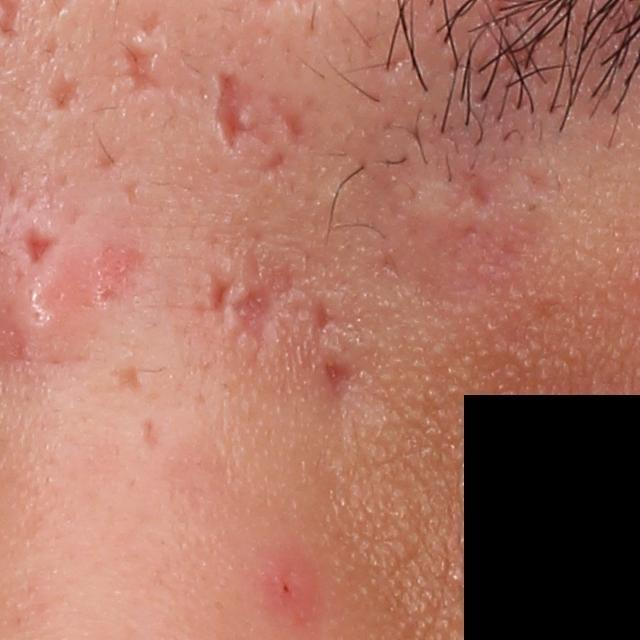atrophic_scar: (234, 253, 297, 353), (212, 68, 257, 166), (43, 70, 93, 120), (121, 42, 164, 96), (514, 163, 565, 204), (106, 355, 146, 395), (26, 226, 58, 262), (135, 413, 162, 455), (322, 363, 351, 402), (141, 6, 165, 36), (95, 146, 122, 171), (213, 276, 231, 309), (123, 181, 140, 211)
hypertrophic_scar: (396, 170, 485, 231), (256, 287, 307, 367), (223, 278, 251, 334), (233, 329, 262, 361), (132, 31, 162, 59), (240, 104, 262, 128)
papule: (258, 543, 332, 620)
